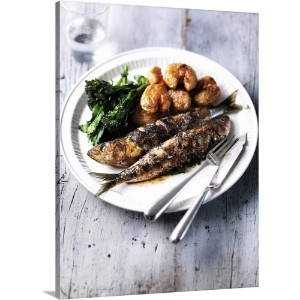sardine_brain food: (92, 66, 229, 194)
